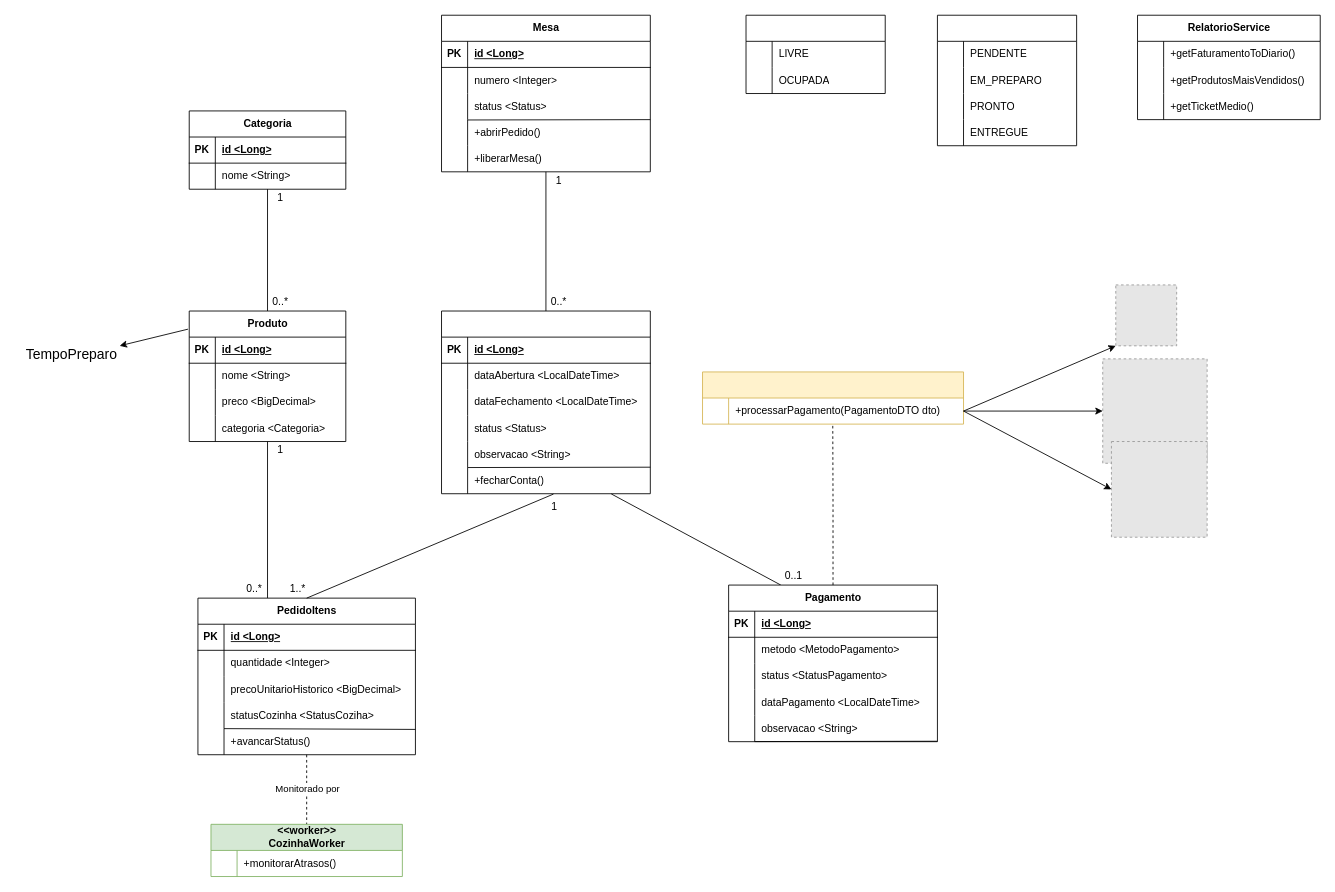
Some shapes in this 1335 by 892 pixel diagram are drawn without their labels. Grey dashed boxes stand in for pictures. The box of each missing label's shape, as (x1, y1, x2, y2) in pixels:
<<enumeration>> StatusCozinha: (937, 14, 1077, 146)
<<enumeration>> StatusMesa: (745, 14, 885, 94)
<<interface>> PagamentoClient: (702, 371, 964, 424)
Pedido: (441, 310, 650, 494)
